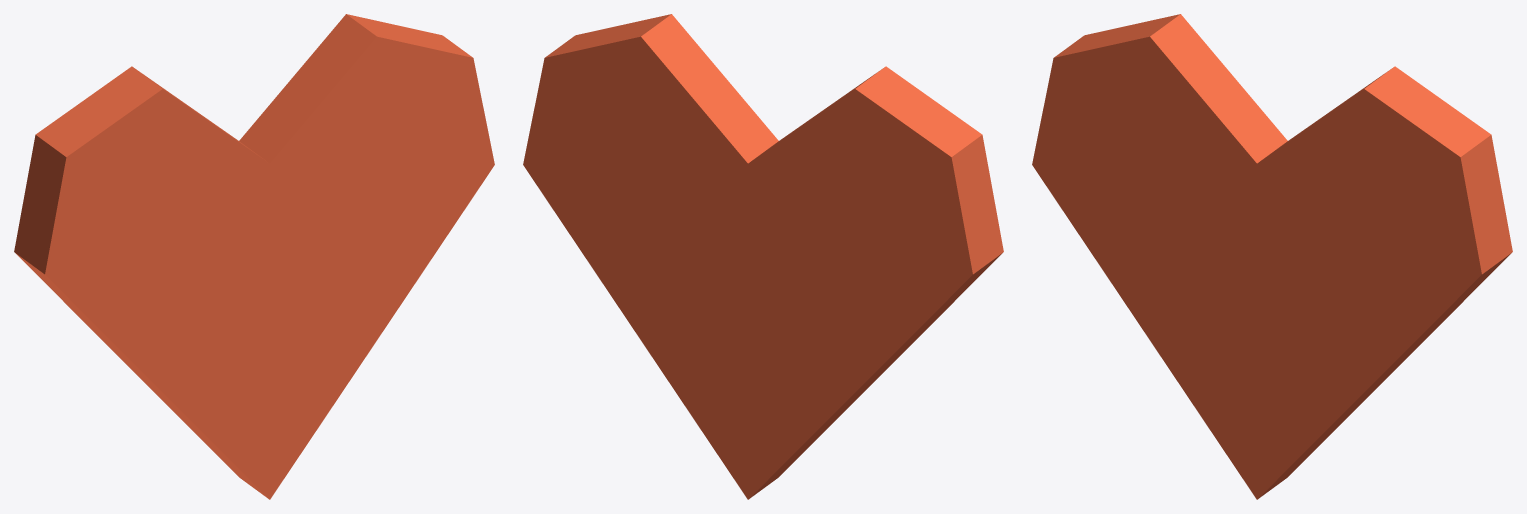
Rendered from status-health.glb.
3 renders of one model, left to right at view 1: azimuth 30°, elevation 25°; view 2: azimuth 150°, elevation 25°; view 3: azimuth 330°, elevation 25°, orthographic.
Parts seen in each view (by area): view 1: status-health; view 2: status-health; view 3: status-health.
Part boxes in pixels (left/top/right/bottom): status-health: left=14, top=14, right=494, bottom=499; status-health: left=523, top=14, right=1003, bottom=499; status-health: left=1032, top=14, right=1512, bottom=499.
Size of the model in its own units: 0.84 by 0.78 by 0.1.
